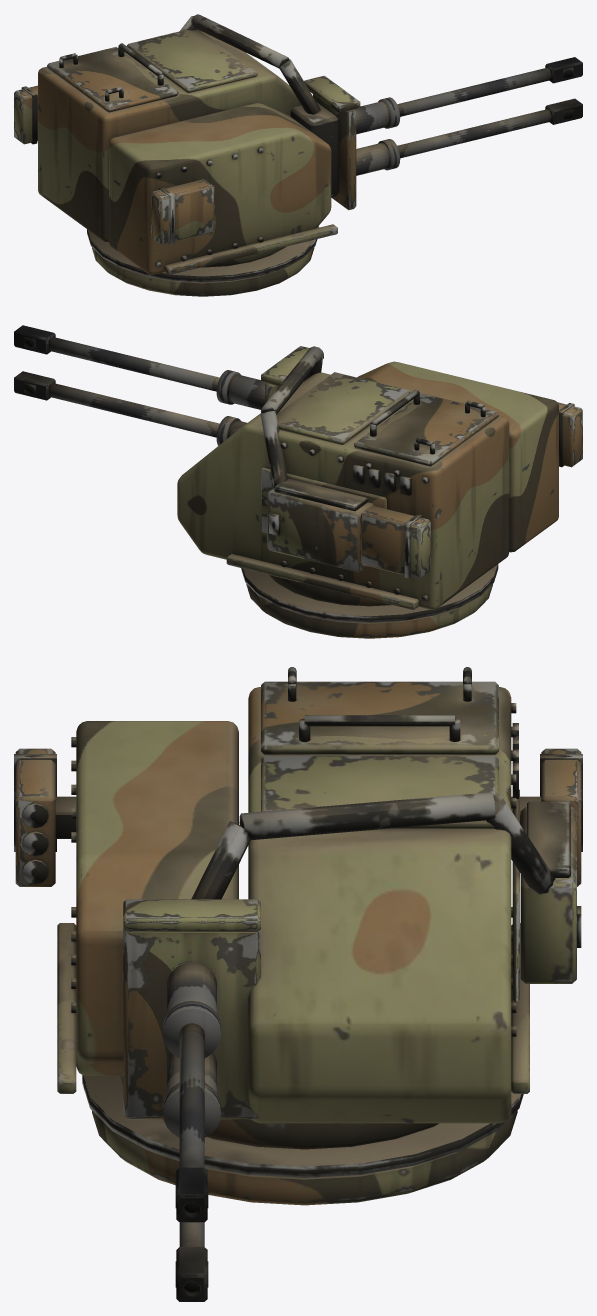
Rendered from turret_grach_t2_steppe.glb.
3 views of the same model, one above another, from view 1: azimuth 30°, elevation 25°; view 2: azimuth 150°, elevation 25°; view 3: azimuth 270°, elevation 25° (orthographic). The views are drawn at different scales.
Parts seen in each view (by area): view 1: turret_light_t2, guns, pods; view 2: turret_light_t2, guns, pods; view 3: turret_light_t2, guns, pods.
Boxes of the visible parts, x1,y1,x2,y2 form: turret_light_t2: (38, 14, 337, 296); guns: (290, 57, 582, 210); pods: (14, 85, 214, 244); turret_light_t2: (177, 346, 558, 638); guns: (14, 325, 323, 445); pods: (360, 402, 582, 578); turret_light_t2: (57, 667, 581, 1205); guns: (123, 899, 260, 1301); pods: (14, 748, 582, 886).
Size of the model in its own units: 1.64 by 0.6416 by 0.9088.
3 materials, 3 textured.
